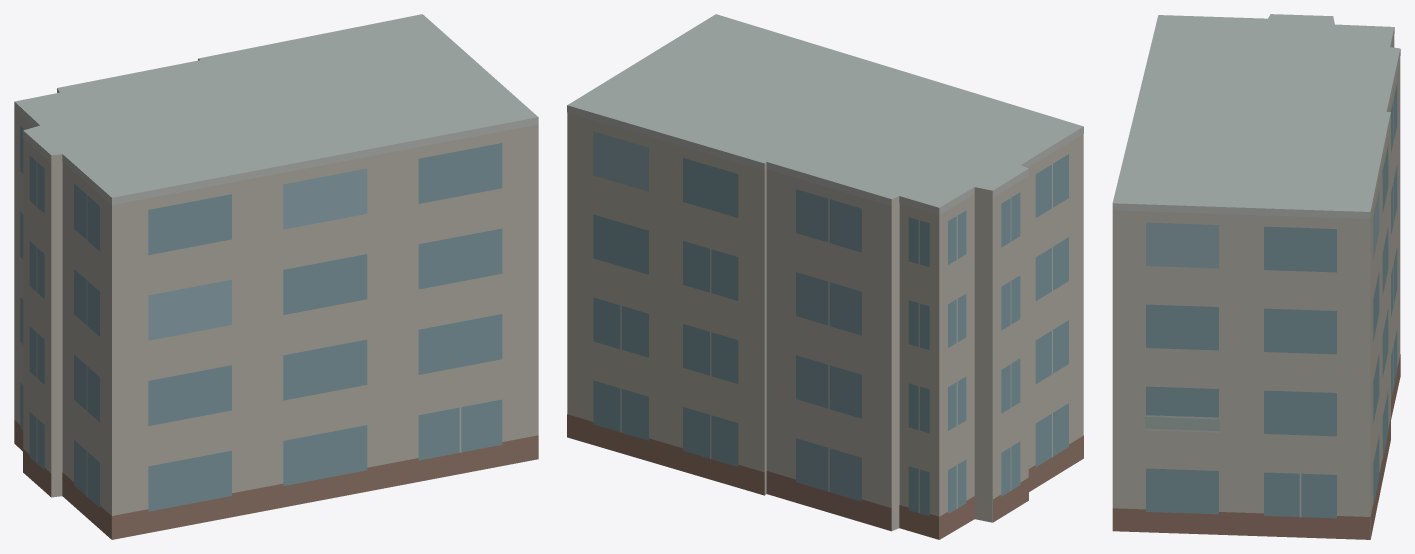
File: survey-upis-32768974.glb
The picture shows the model from 3 angles, left to right: view 1: azimuth 30°, elevation 25°; view 2: azimuth 150°, elevation 25°; view 3: azimuth 270°, elevation 25°; orthographic projection. The views are drawn at different scales.
Visible parts, largest first — view 1: survey-upis-32768974.tmp; view 2: survey-upis-32768974.tmp; view 3: survey-upis-32768974.tmp.
Part boxes in pixels (box(x1,y1,x2,y2)): survey-upis-32768974.tmp: box(14, 14, 538, 539); survey-upis-32768974.tmp: box(567, 14, 1083, 539); survey-upis-32768974.tmp: box(1112, 14, 1400, 539).
Bounding box in the file's own units: 14.78 × 11.4 × 9.09.
